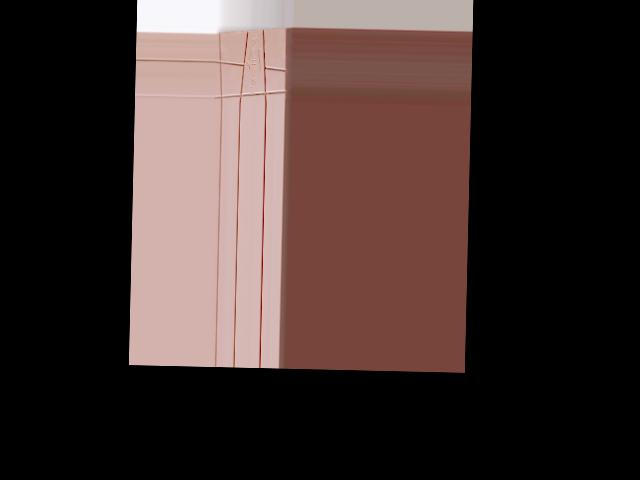chocolate: (214, 24, 290, 104)
